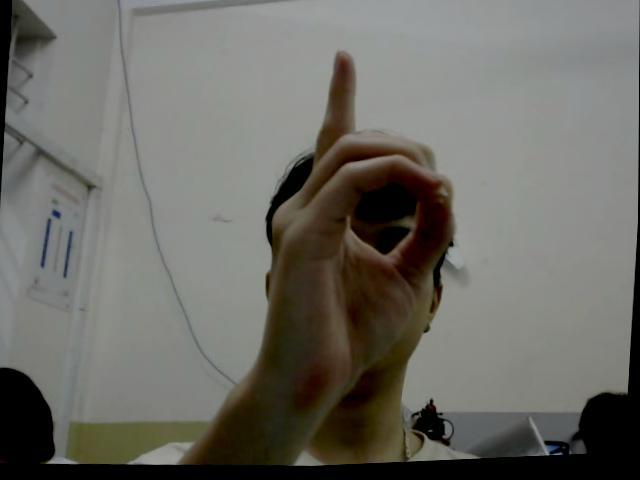D: (261, 45, 466, 400)
